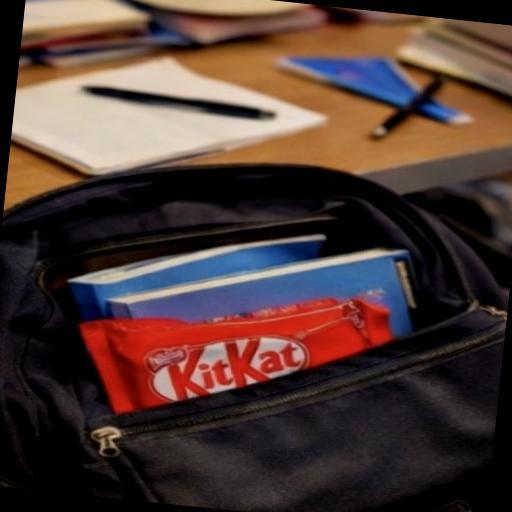kitkat: (50, 268, 500, 472)
